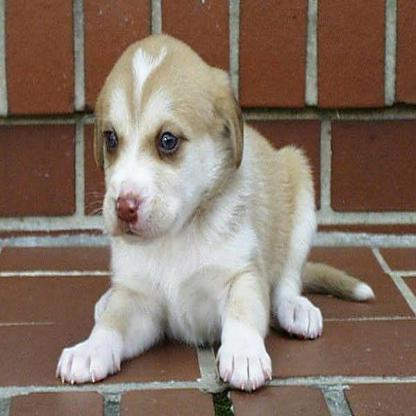dog: (71, 22, 374, 397)
